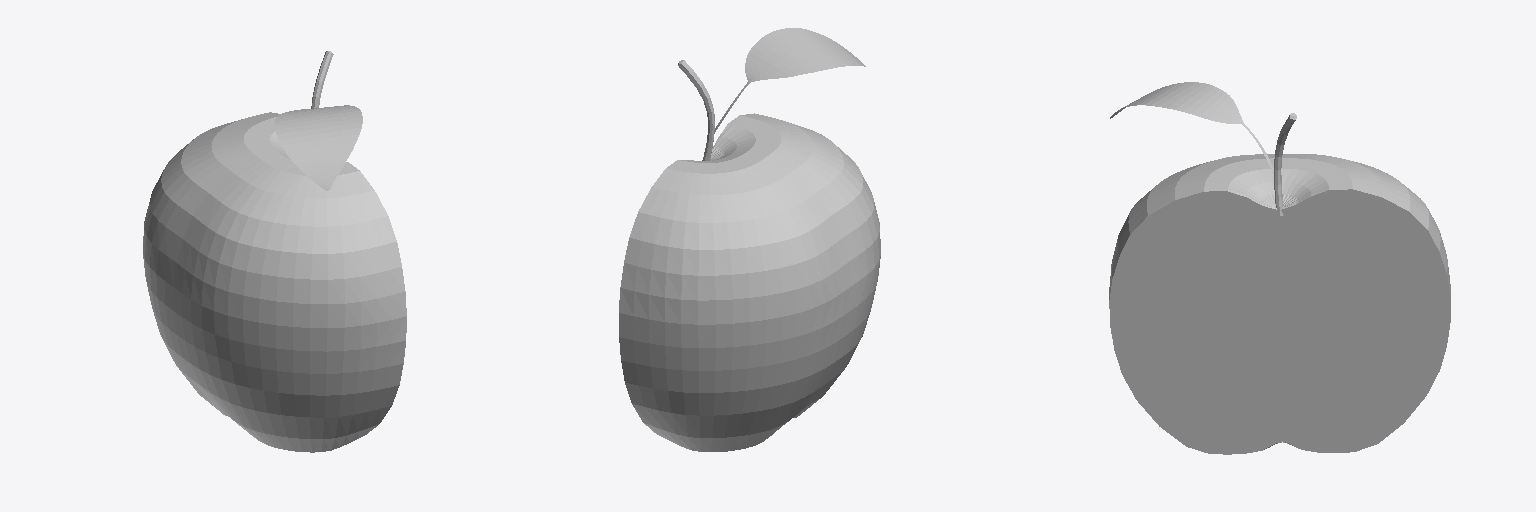
The model's file is Apple.obj.
The picture shows the model from 3 angles: view 1: azimuth 30°, elevation 25°; view 2: azimuth 150°, elevation 25°; view 3: azimuth 270°, elevation 25°; orthographic projection.
Parts seen in each view (by area): view 1: Apples_Cylinder; view 2: Apples_Cylinder; view 3: Apples_Cylinder.
Part boxes in pixels (x1,y1,x2,y2): Apples_Cylinder: (143, 51, 406, 452); Apples_Cylinder: (619, 28, 880, 451); Apples_Cylinder: (1109, 82, 1450, 454).
Size of the model in its own units: 1.14 by 2.37 by 2.03.